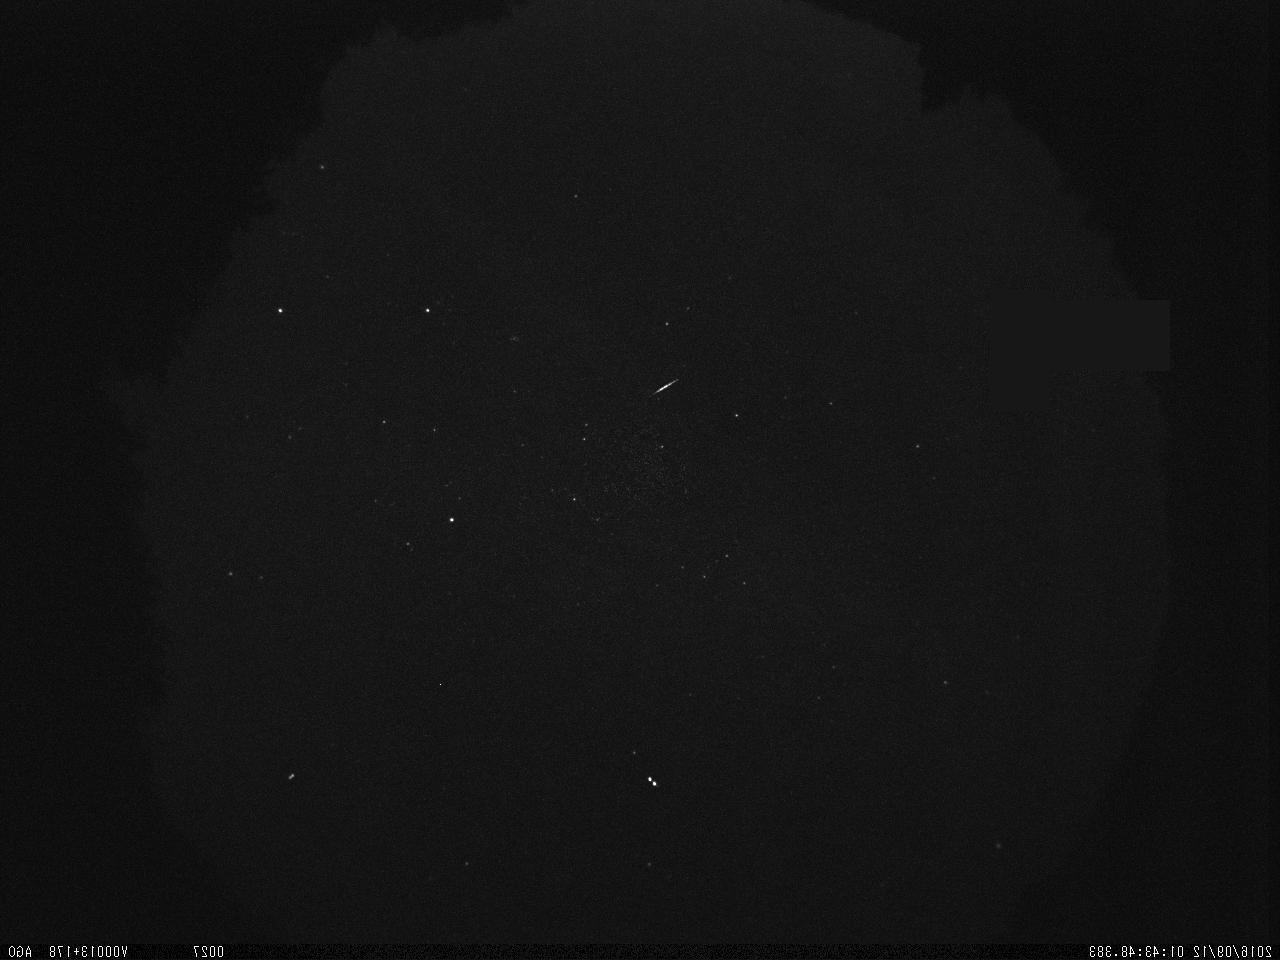meteor: (649, 368, 683, 405)
